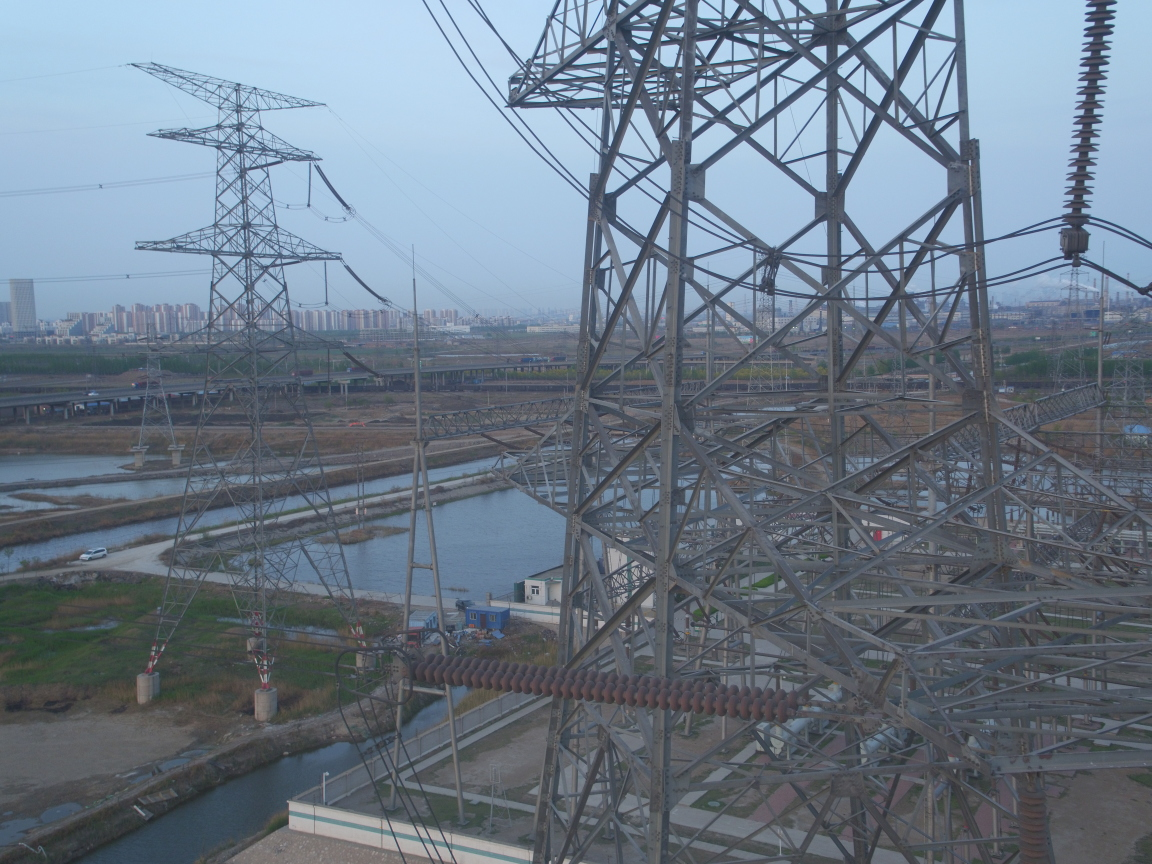insulator: (403, 643, 831, 726)
